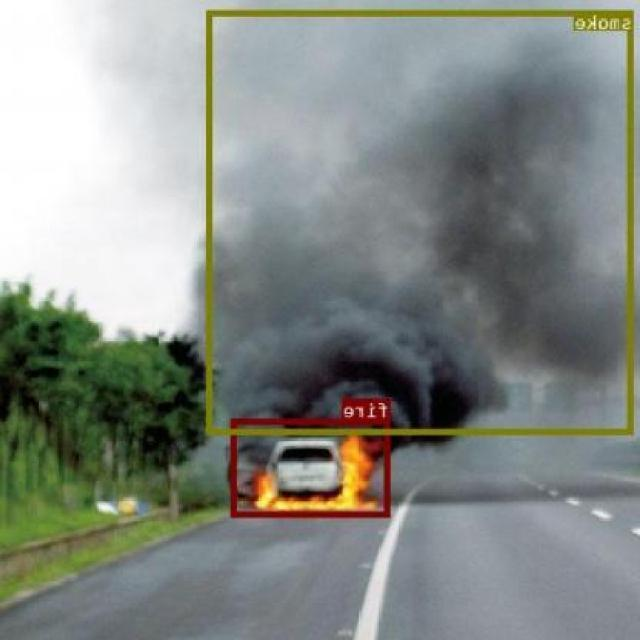Fire: (233, 418, 392, 516)
Smoke: (208, 10, 634, 433)
